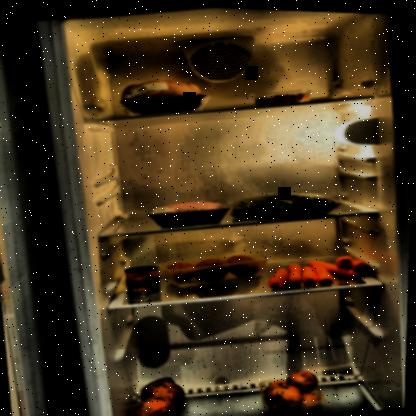carrot: (261, 245, 377, 294)
chicken: (115, 69, 215, 121)
corn: (125, 262, 163, 296)
green_beans: (230, 181, 346, 225)
ground_beef: (145, 193, 234, 230)
onion: (257, 363, 333, 415)
potato: (164, 246, 266, 289)
shrimp: (253, 87, 312, 105)
sweet_potato: (127, 366, 196, 415)
